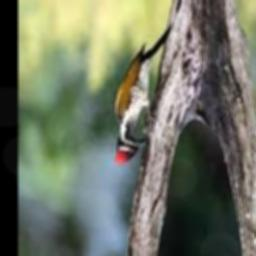Woodpecker: (115, 26, 172, 163)
